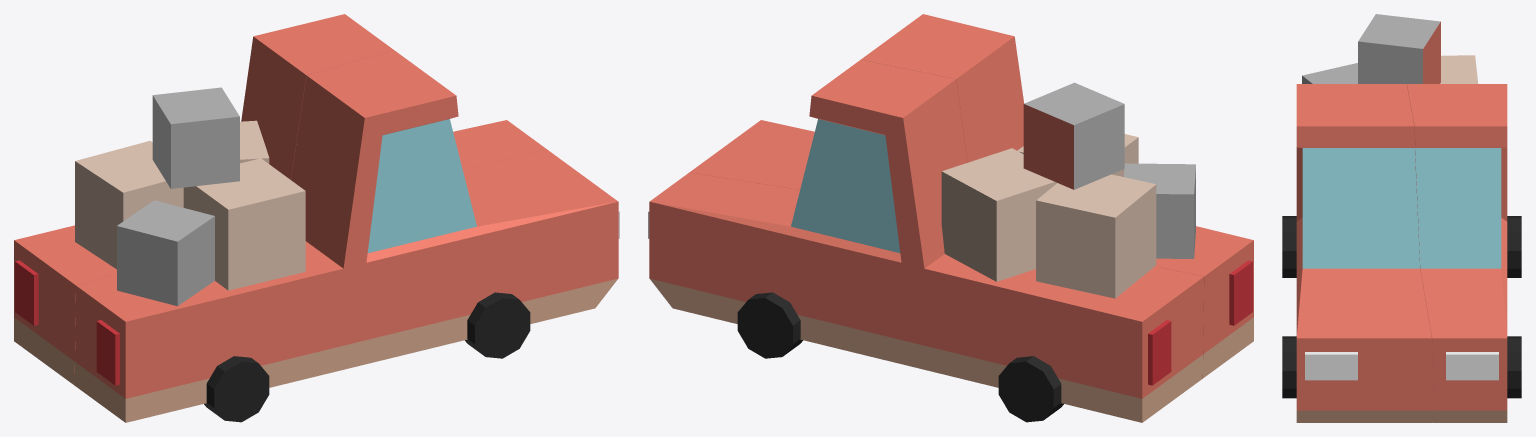
File: Car 4 Fractured.fbx
3 renders of one model, left to right at view 1: azimuth 30°, elevation 25°; view 2: azimuth 150°, elevation 25°; view 3: azimuth 270°, elevation 25°, orthographic. The views are drawn at different scales.
Parts seen in each view (by area): view 1: Car_4_Breaking_cell, Car_4_Breaking_cell.001, Car_4_Breaking.002, Car_4_Breaking.005, Car_4_Breaking.004, Car_4_Breaking.003, Car_4_Breaking.001; view 2: Car_4_Breaking_cell.001, Car_4_Breaking_cell, Car_4_Breaking.003, Car_4_Breaking.001, Car_4_Breaking.004, Car_4_Breaking.005; view 3: Car_4_Breaking_cell, Car_4_Breaking_cell.001, Car_4_Breaking.004, Car_4_Breaking.003, Car_4_Breaking.005.
Boxes of the visible parts, <box> form: Car_4_Breaking_cell: <box>74,50,619,422</box>; Car_4_Breaking_cell.001: <box>14,14,546,385</box>; Car_4_Breaking.002: <box>183,158,305,290</box>; Car_4_Breaking.005: <box>117,200,214,306</box>; Car_4_Breaking.004: <box>152,87,239,188</box>; Car_4_Breaking.003: <box>75,141,183,269</box>; Car_4_Breaking.001: <box>240,120,269,163</box>; Car_4_Breaking_cell.001: <box>648,59,1203,422</box>; Car_4_Breaking_cell: <box>689,14,1253,378</box>; Car_4_Breaking.003: <box>1036,174,1156,298</box>; Car_4_Breaking.001: <box>941,148,1056,281</box>; Car_4_Breaking.004: <box>1023,82,1124,189</box>; Car_4_Breaking.005: <box>1124,163,1195,258</box>; Car_4_Breaking_cell: <box>1282,84,1433,422</box>; Car_4_Breaking_cell.001: <box>1407,84,1521,422</box>; Car_4_Breaking.004: <box>1358,14,1440,84</box>; Car_4_Breaking.003: <box>1440,55,1478,83</box>; Car_4_Breaking.005: <box>1302,63,1357,83</box>.
Bounding box in the file's own units: 521 × 264 × 227.
